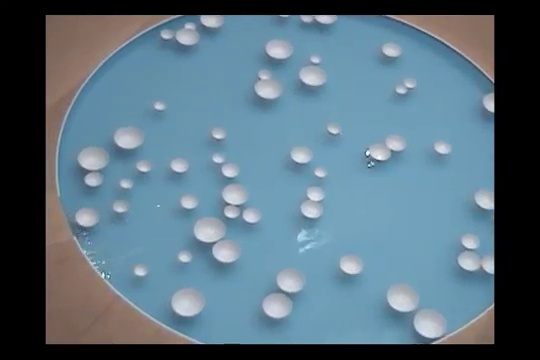bowl: (386, 282, 421, 314), (170, 287, 206, 318), (412, 309, 449, 339), (193, 215, 228, 245), (75, 145, 112, 171), (261, 291, 295, 319), (113, 125, 148, 151), (212, 239, 244, 264), (275, 267, 305, 293), (298, 63, 329, 87), (264, 38, 296, 61), (221, 181, 251, 204), (456, 249, 484, 273), (74, 205, 101, 229), (288, 143, 317, 165), (473, 182, 494, 212), (254, 78, 282, 99), (299, 199, 328, 219), (339, 251, 364, 274), (368, 142, 395, 162), (175, 28, 202, 46), (384, 133, 407, 153), (200, 13, 227, 30), (241, 206, 264, 225), (461, 232, 483, 251), (83, 171, 106, 189), (168, 157, 191, 175), (380, 42, 404, 59), (305, 184, 326, 203), (221, 162, 242, 181), (433, 138, 454, 156), (179, 193, 200, 210), (209, 124, 229, 141), (325, 120, 344, 137), (111, 197, 131, 213), (222, 204, 241, 220), (482, 251, 494, 276), (313, 164, 331, 180), (131, 263, 151, 277), (135, 158, 153, 173), (481, 91, 493, 113), (152, 96, 169, 111), (211, 150, 228, 164), (177, 250, 194, 264), (403, 76, 418, 91), (309, 52, 325, 66), (394, 84, 411, 97), (119, 176, 135, 189), (256, 67, 272, 80), (318, 14, 338, 24), (160, 27, 175, 40), (299, 14, 316, 23), (184, 20, 198, 29), (279, 13, 294, 19)
